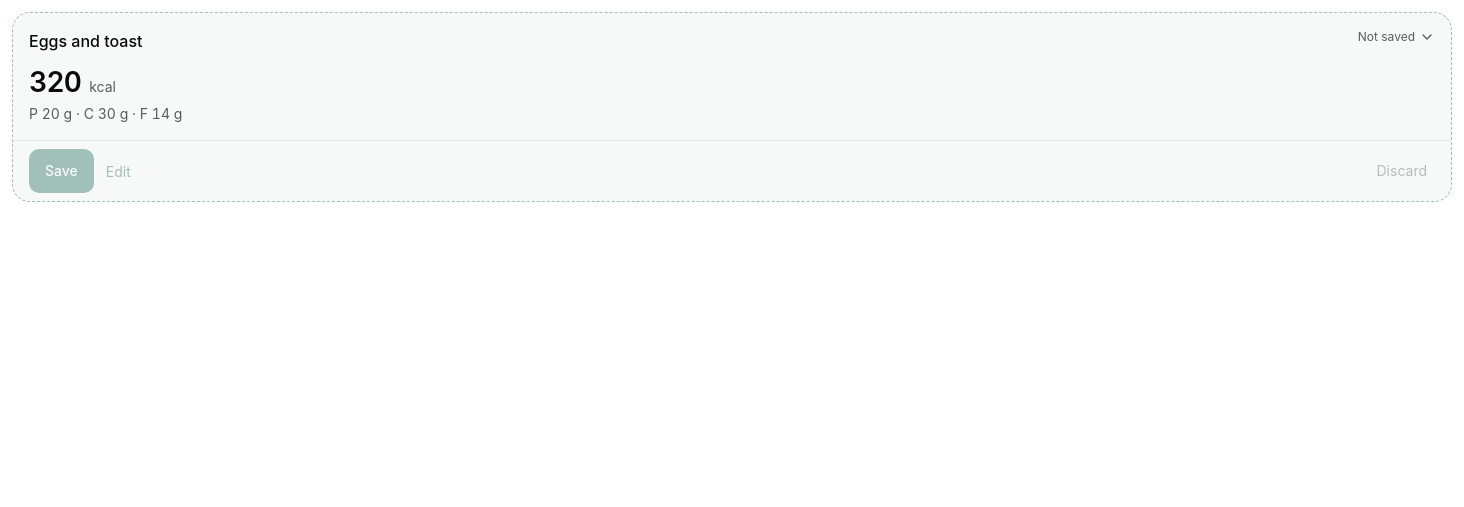
Test case: renders the label source without turning non-URLs into links
This screenshot has width=1464, height=507.
What coordinates should you click on to do the following:
click the button with aria-label "Expand Eggs and toast"
I would click on:
 (732, 76)
Its box is [13, 13, 1451, 140].
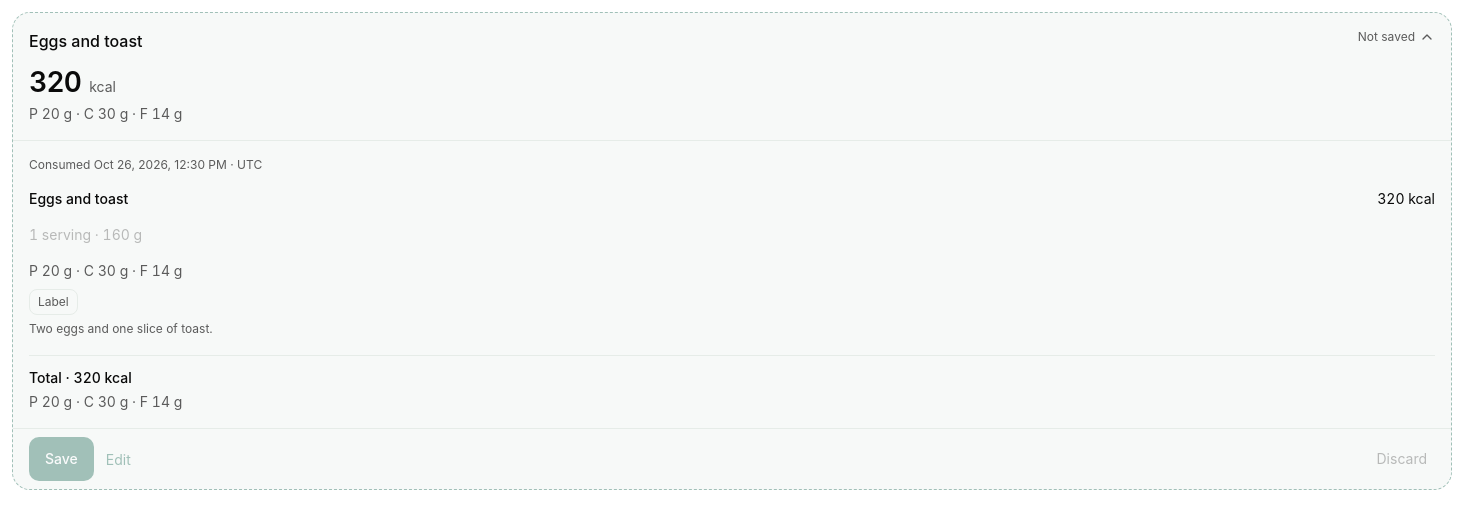
Check: the text "Label" is shown, box [29, 289, 78, 315]
